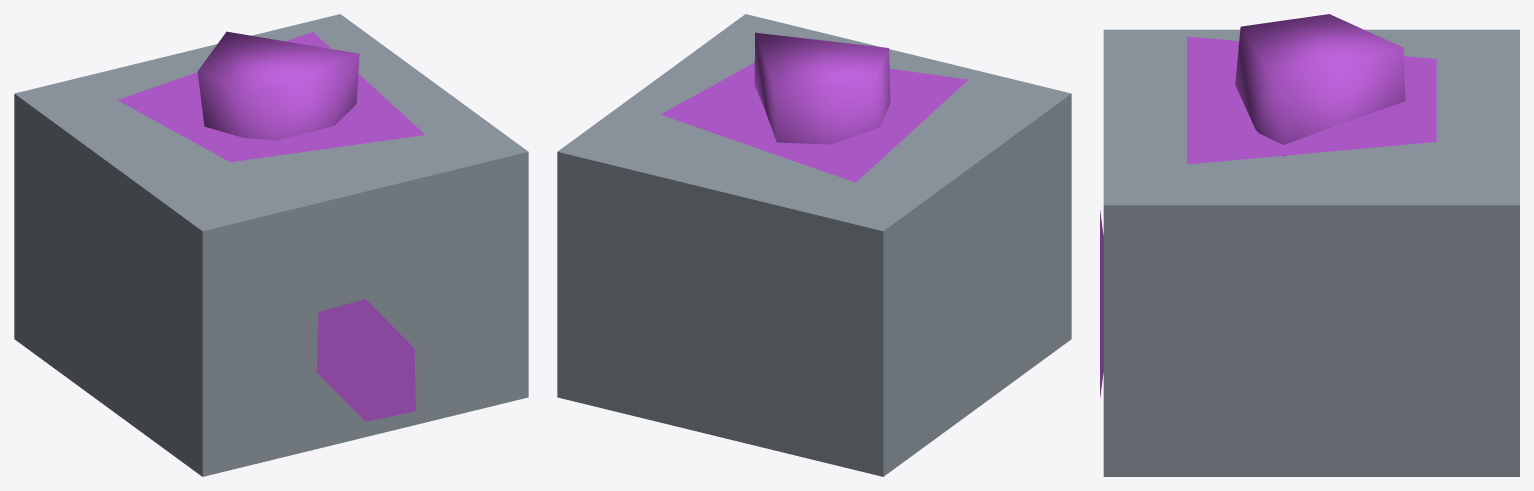
Rendered from CH_AATurret_LOD2.glb.
3 renders of one model, left to right at view 1: azimuth 30°, elevation 25°; view 2: azimuth 150°, elevation 25°; view 3: azimuth 270°, elevation 25°, orthographic. The views are drawn at different scales.
Parts seen in each view (by area): view 1: EntranceGate; view 2: EntranceGate; view 3: EntranceGate.
Boxes of the visible parts, x1,y1,x2,y2 form: EntranceGate: (14,14,528,476); EntranceGate: (557,14,1071,476); EntranceGate: (1100,14,1519,476).
Bounding box in the file's own units: 400 × 360 × 403.
